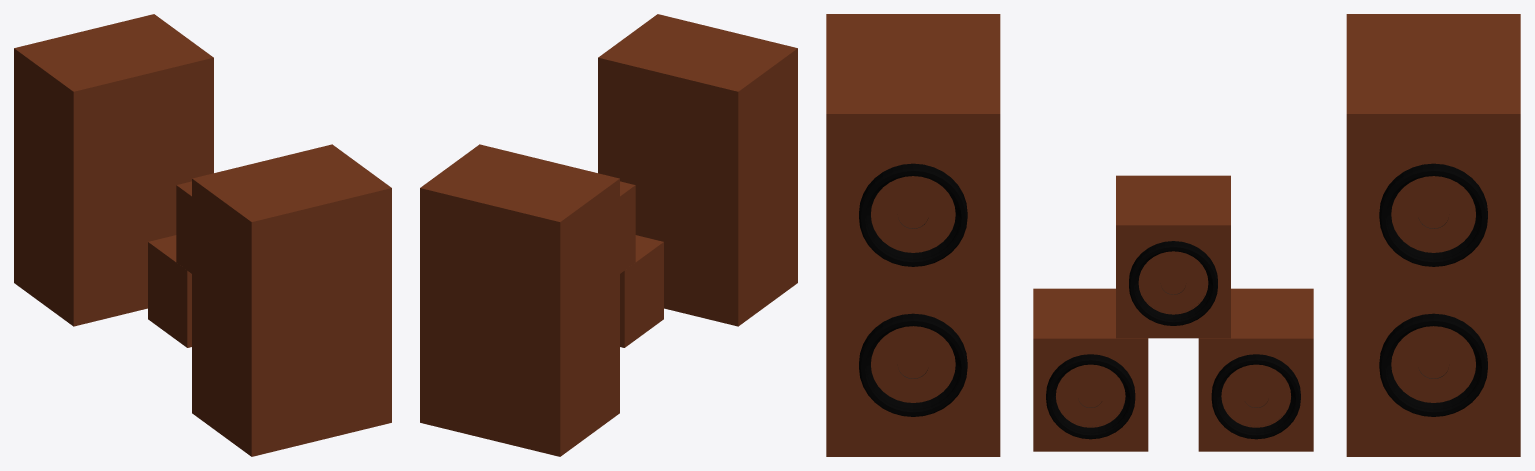
File: altavoces.fbx
3 views of the same model, side by side, from view 1: azimuth 30°, elevation 25°; view 2: azimuth 150°, elevation 25°; view 3: azimuth 270°, elevation 25° (orthographic). The views are drawn at different scales.
Parts seen in each view (by area): view 1: Cube, Cube.001, Cube.003, Cube.004; view 2: Cube.001, Cube, Cube.002, Cube.004; view 3: Cube, Cube.001, Cube.004, Cube.002, Cube.003, Circle.002, Circle.006, Circle, Circle.004, Circle.010, Circle.008, Circle.012.
Boxes of the visible parts, x1,y1,x2,y2 form: Cube: [192, 144, 391, 456]; Cube.001: [14, 14, 213, 326]; Cube.003: [148, 235, 191, 347]; Cube.004: [176, 181, 191, 273]; Cube.001: [420, 144, 619, 456]; Cube: [598, 14, 797, 326]; Cube.002: [620, 235, 663, 347]; Cube.004: [620, 181, 635, 273]; Cube: [826, 14, 1000, 456]; Cube.001: [1346, 14, 1520, 456]; Cube.004: [1116, 175, 1230, 338]; Cube.002: [1033, 288, 1148, 451]; Cube.003: [1198, 288, 1313, 451]; Circle.002: [859, 313, 967, 416]; Circle.006: [1379, 313, 1487, 416]; Circle: [859, 163, 967, 266]; Circle.004: [1379, 163, 1487, 266]; Circle.010: [1046, 354, 1135, 439]; Circle.008: [1211, 354, 1300, 439]; Circle.012: [1129, 241, 1217, 325].
Bounding box in the file's own units: 211 × 320 × 587.
